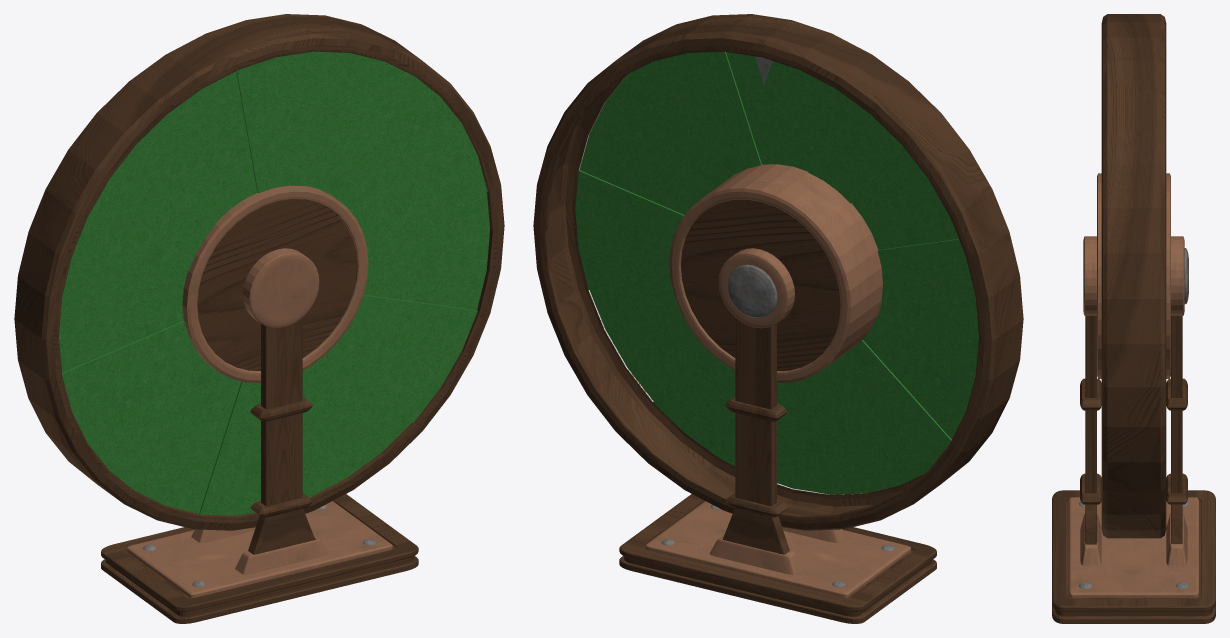
The model's file is WheelOfFortune-Body.glb.
3 views of the same model, side by side, from view 1: azimuth 30°, elevation 25°; view 2: azimuth 150°, elevation 25°; view 3: azimuth 270°, elevation 25° (orthographic).
Visible parts, largest first — view 1: WheelOfFortune.001; view 2: WheelOfFortune.001; view 3: WheelOfFortune.001.
Boxes of the visible parts, x1=… form: WheelOfFortune.001: x1=14, y1=14, x2=504, y2=623; WheelOfFortune.001: x1=533, y1=14, x2=1023, y2=623; WheelOfFortune.001: x1=1052, y1=14, x2=1215, y2=623.
Size of the model in its own units: 6.44 by 7.12 by 2.
5 materials, 4 textured.
